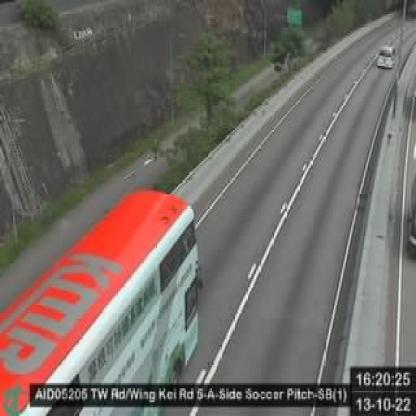Bus: (1, 188, 200, 409)
Car: (377, 46, 399, 69)
